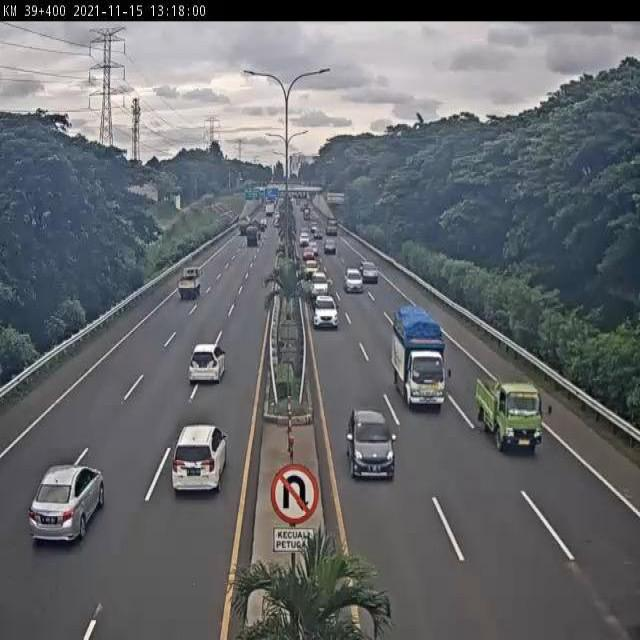car: (170, 427, 226, 493), (189, 341, 230, 384), (312, 292, 339, 325)
truck-m-: (390, 305, 447, 411)
truck-s-: (474, 370, 545, 454), (178, 264, 204, 300)
